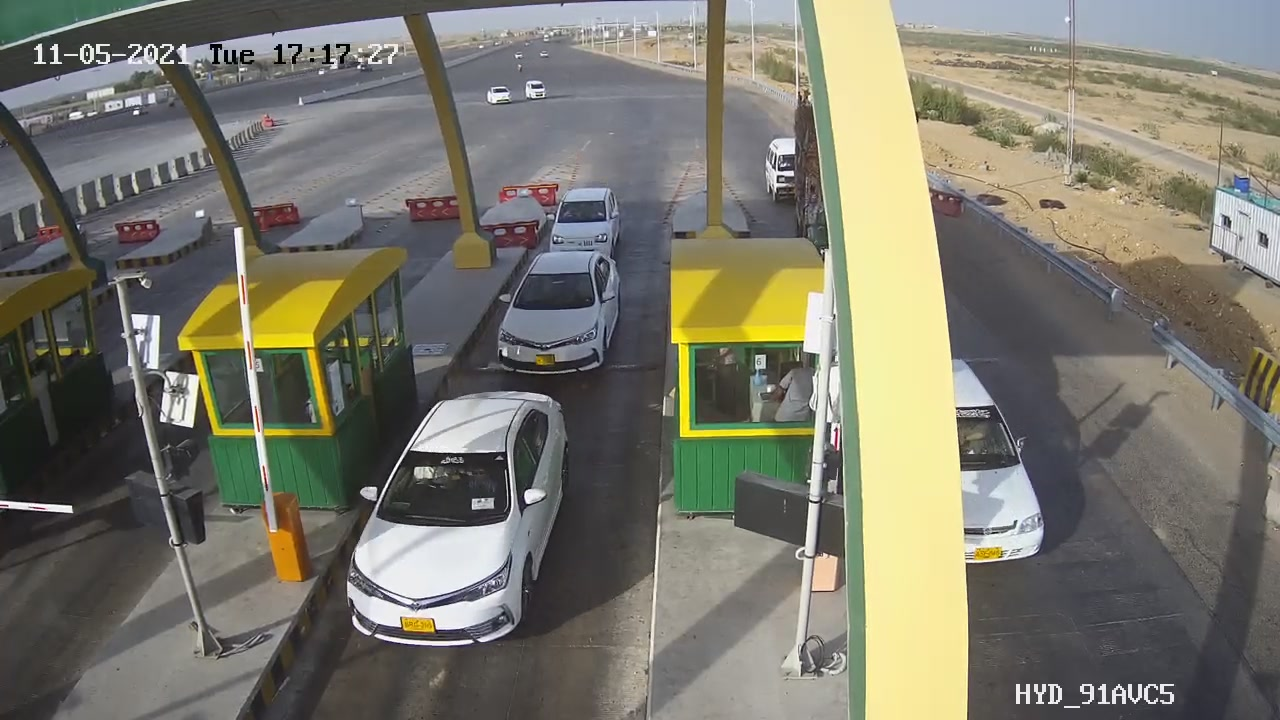F1: (481, 234, 635, 391)
